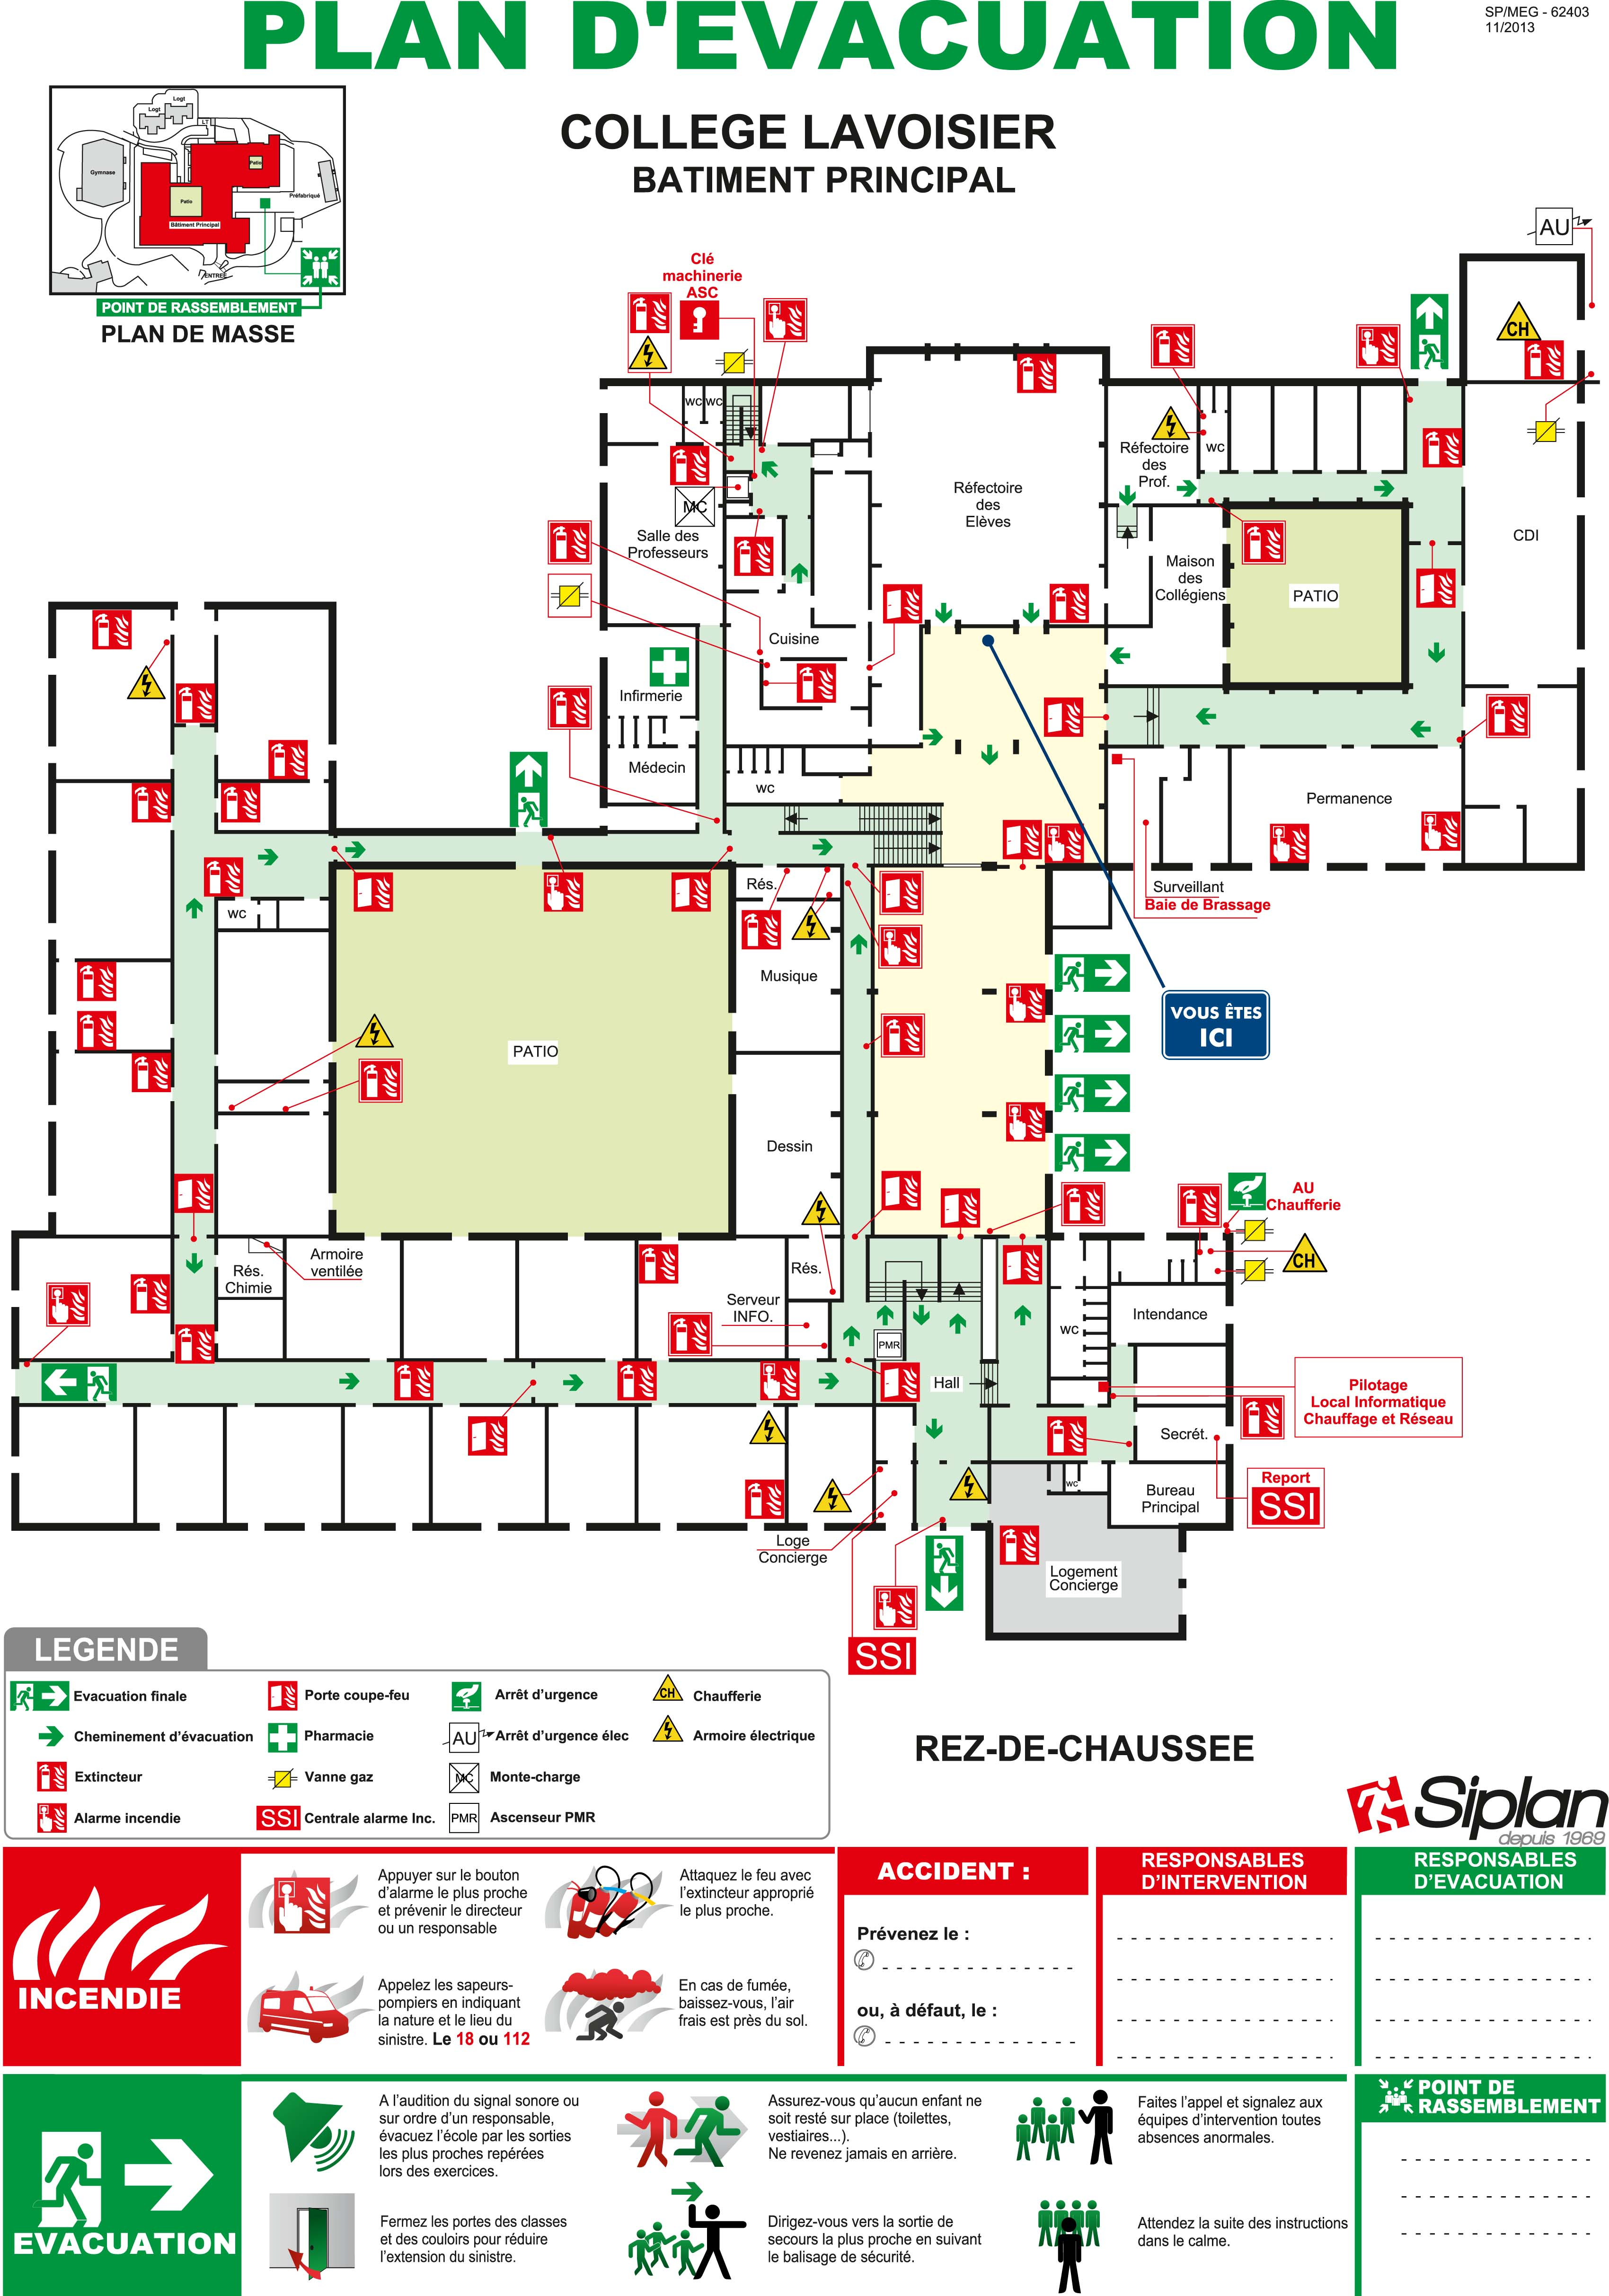armoire electrique: (808, 1478, 859, 1520), (747, 1408, 792, 1452), (626, 338, 675, 379), (117, 666, 166, 705), (946, 1462, 991, 1502), (794, 907, 834, 946), (799, 1193, 841, 1230), (356, 1014, 400, 1049), (649, 1713, 688, 1748), (1154, 415, 1190, 450)
arret d'urgence: (1227, 1174, 1270, 1213), (450, 1682, 483, 1715)
exit: (1054, 949, 1092, 996), (504, 790, 550, 829), (80, 1361, 117, 1404), (1056, 1075, 1092, 1117), (1058, 1136, 1092, 1174), (932, 1535, 967, 1574), (1058, 1014, 1089, 1052), (1419, 331, 1450, 370), (12, 1678, 38, 1713)
extincteur: (876, 1012, 928, 1061), (1148, 326, 1202, 373), (1059, 1179, 1108, 1228), (171, 679, 222, 726), (89, 602, 136, 653), (1483, 694, 1532, 741), (1239, 520, 1288, 567), (623, 293, 674, 338), (216, 776, 262, 827), (550, 684, 597, 731), (550, 520, 597, 565), (1421, 424, 1466, 471), (794, 661, 841, 707), (359, 1057, 405, 1104), (1176, 1185, 1223, 1230), (1047, 581, 1096, 625), (1239, 1396, 1288, 1439), (129, 782, 175, 827), (998, 1525, 1044, 1570), (173, 1322, 220, 1366), (667, 1314, 714, 1357), (1523, 338, 1569, 382), (127, 1272, 173, 1315), (640, 1244, 684, 1288), (1014, 351, 1058, 394), (77, 1012, 120, 1056), (202, 855, 248, 897), (668, 445, 712, 487), (740, 909, 782, 953), (77, 958, 120, 1000), (747, 1479, 789, 1523), (620, 1363, 663, 1403), (398, 1359, 438, 1403), (471, 1417, 511, 1460), (265, 738, 311, 776), (735, 536, 775, 577), (133, 1052, 173, 1094), (1047, 1418, 1089, 1455), (37, 1759, 68, 1794)
fleche: (508, 747, 551, 792), (1410, 290, 1452, 333), (1092, 1014, 1133, 1059), (1092, 1073, 1133, 1117), (42, 1361, 80, 1406), (1096, 953, 1129, 998), (1099, 1132, 1134, 1169), (934, 1574, 967, 1609), (44, 1682, 73, 1719)
incendie: (276, 1876, 332, 1935), (871, 1584, 920, 1633), (880, 925, 928, 972), (764, 298, 813, 344), (1045, 822, 1089, 872), (1269, 823, 1312, 871), (1005, 1101, 1049, 1146), (543, 871, 586, 914), (1358, 326, 1401, 368), (1007, 982, 1047, 1028), (1421, 808, 1461, 853), (761, 1361, 803, 1403), (44, 1286, 89, 1324), (35, 1801, 72, 1835)
porte coupe feu: (880, 872, 923, 919), (1042, 698, 1085, 740), (878, 1364, 923, 1404), (941, 1190, 983, 1232), (175, 1172, 215, 1216), (1417, 567, 1457, 609), (881, 1171, 920, 1213), (1007, 818, 1042, 864), (881, 583, 918, 625), (1005, 1244, 1040, 1286), (674, 874, 709, 912), (358, 878, 398, 911), (269, 1682, 298, 1713)
vanne gaz: (1525, 412, 1569, 454), (1232, 1256, 1279, 1291), (551, 579, 590, 618), (1239, 1214, 1281, 1249), (717, 349, 761, 382), (265, 1764, 307, 1797)
